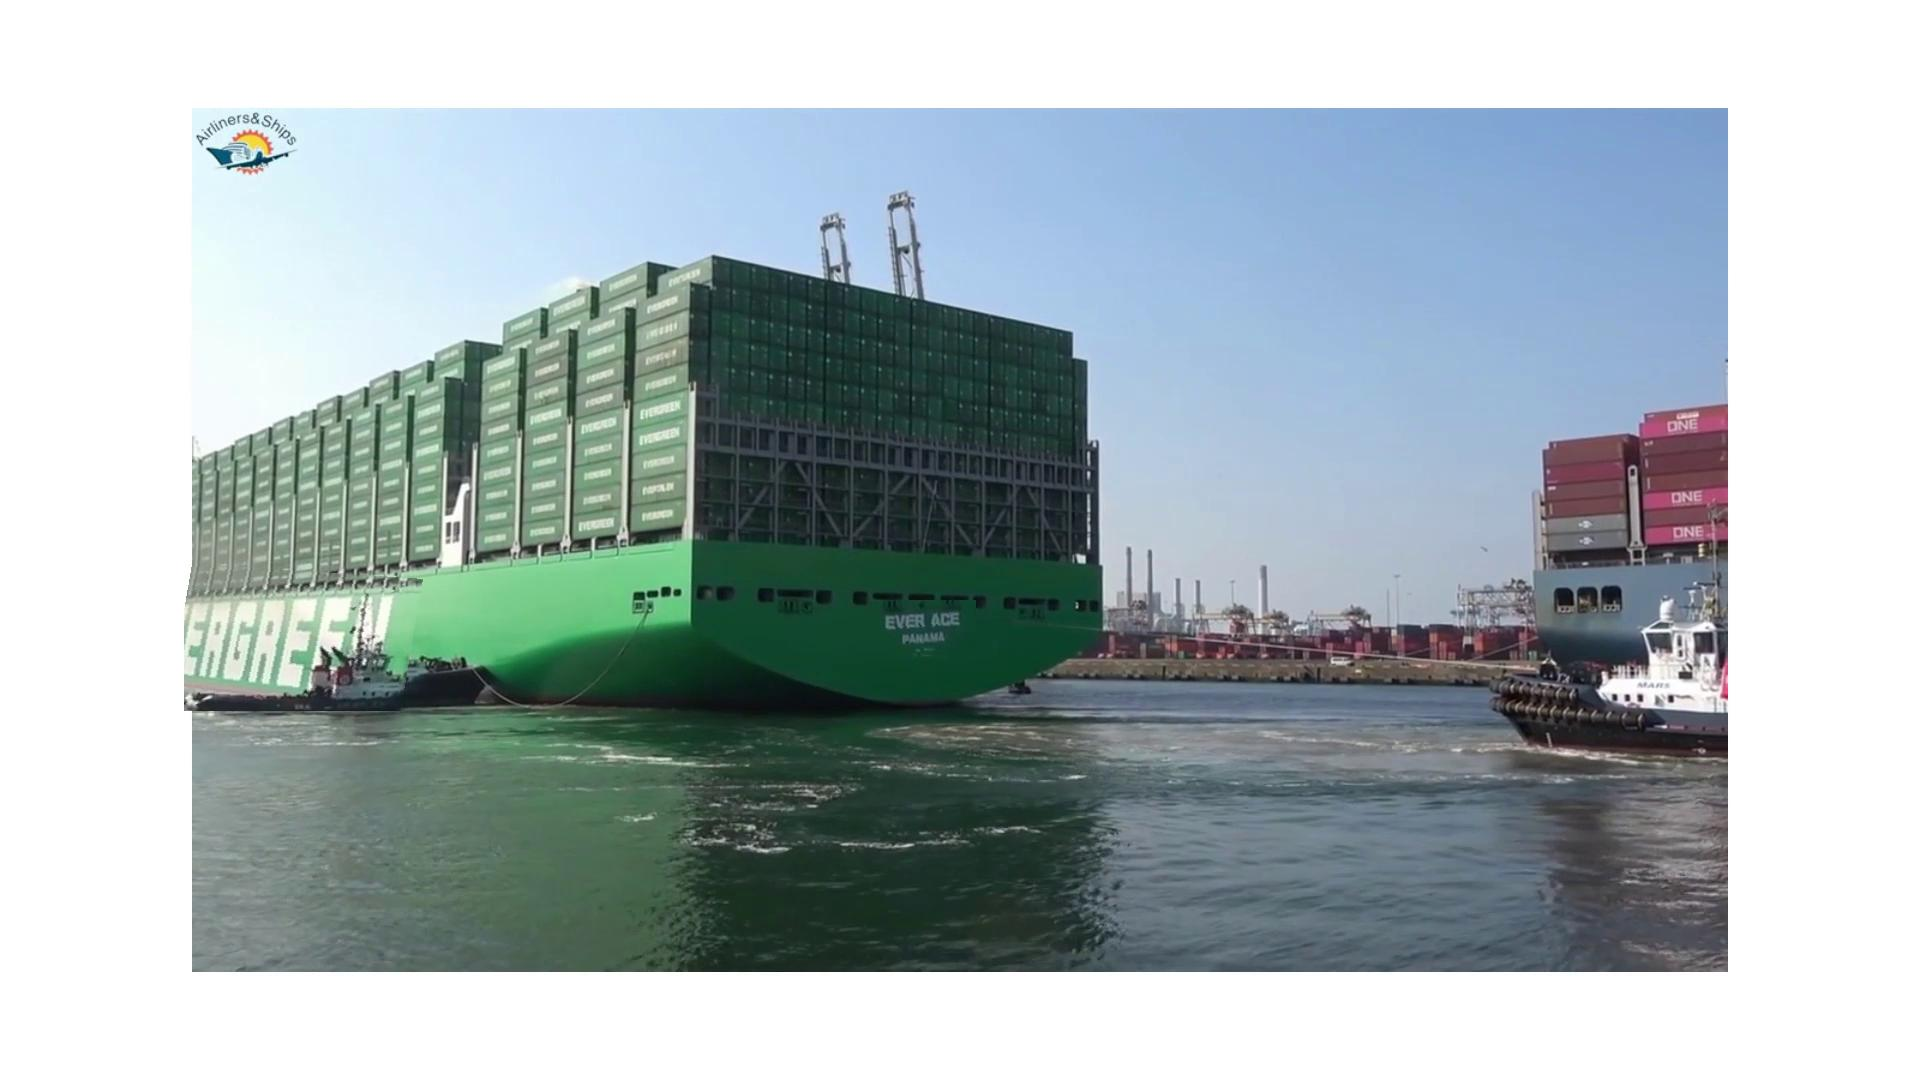OCR: (185, 563, 423, 711), (861, 600, 977, 661)
